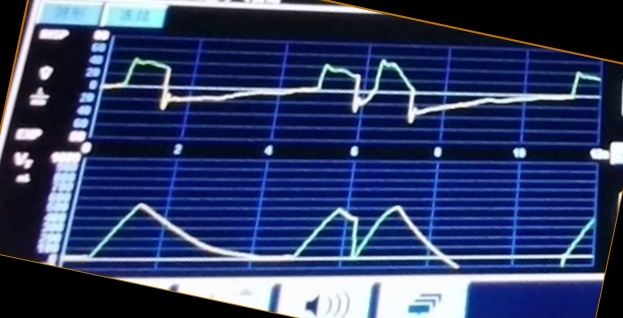Double_Triggering Flow: (113, 51, 599, 132)
Double_Triggering Volume: (79, 197, 593, 269)
